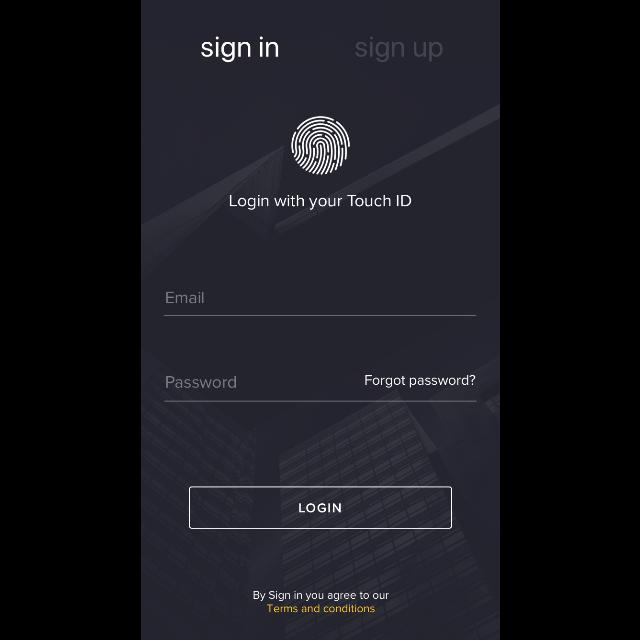backgroundimage: (140, 1, 500, 640)
image: (290, 116, 350, 176)
input: (164, 374, 476, 402), (164, 292, 476, 316)
text: (253, 591, 389, 613), (229, 194, 411, 210), (355, 36, 443, 64), (200, 37, 278, 63), (364, 374, 476, 388), (165, 376, 235, 388), (165, 292, 203, 304)
textbutton: (188, 487, 452, 529)
